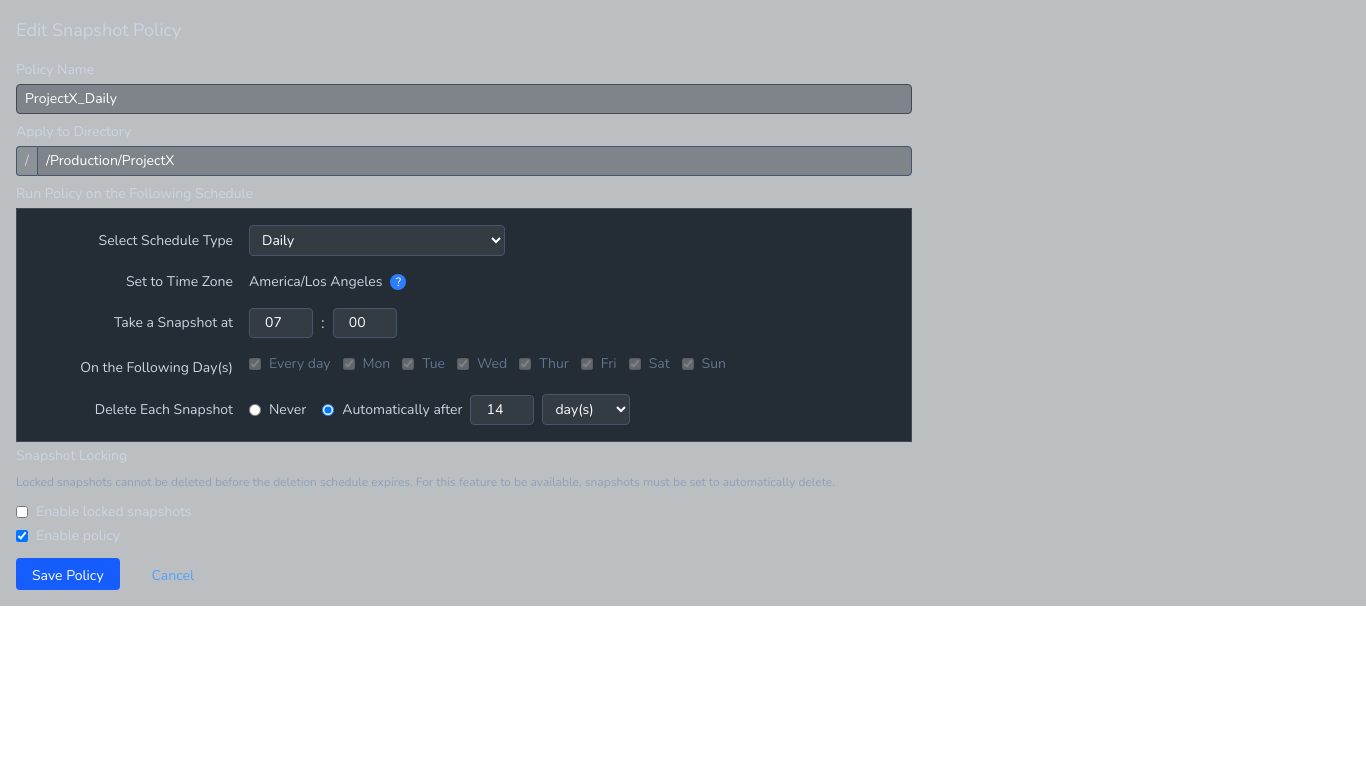
SnapshotPolicyForm › Cancel Confirmation Dialog › shows cancel confirmation dialog when cancel button is clicked
What coordinates should you click on to do the following:
click the button "Cancel"
I would click on:
 (173, 574)
Its box is top-left (136, 558), bottom-right (210, 590).
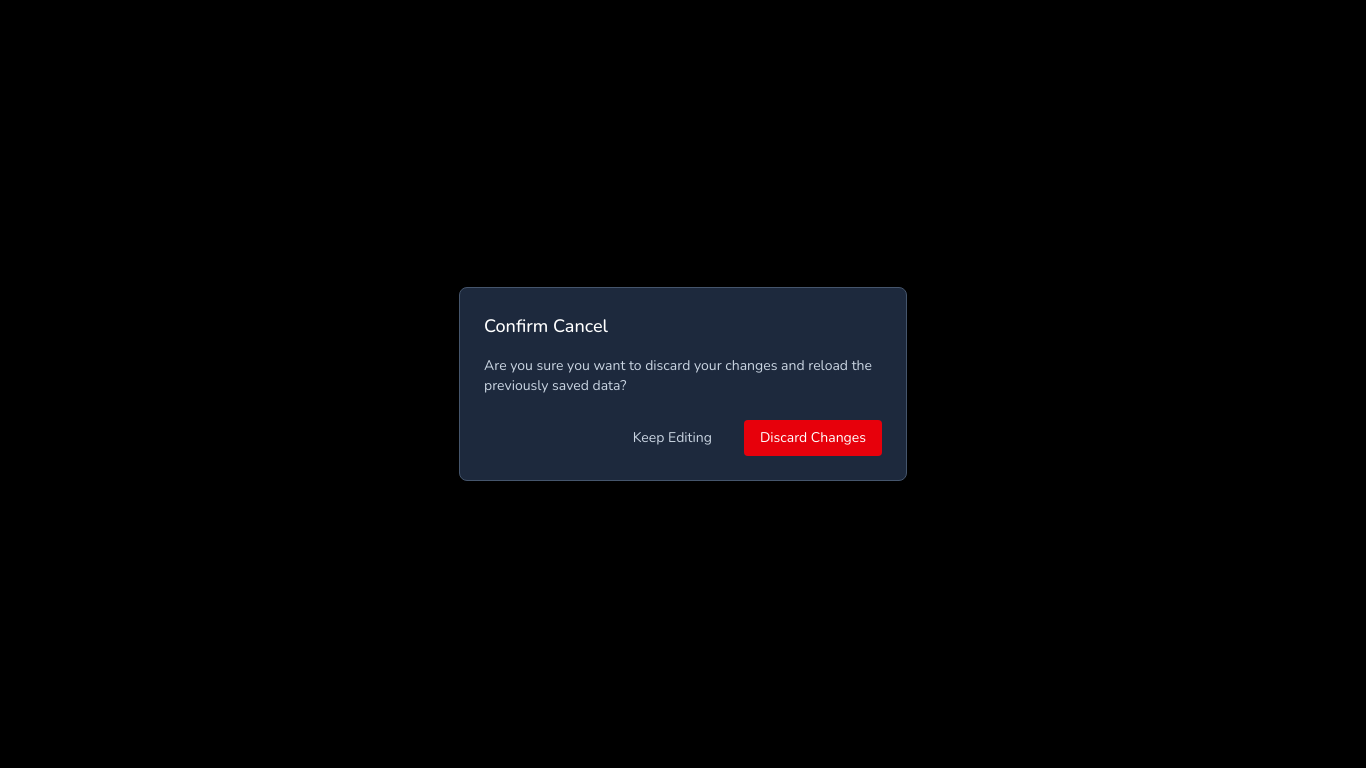
Expected: the heading "Confirm Cancel" is shown, top-left (484, 314), bottom-right (608, 338)
Expected: the text "Are you sure you want to discard your changes and reload the previously saved data?" is shown, top-left (484, 356), bottom-right (872, 395)
Expected: the button "Keep Editing" is shown, top-left (617, 420), bottom-right (728, 456)
